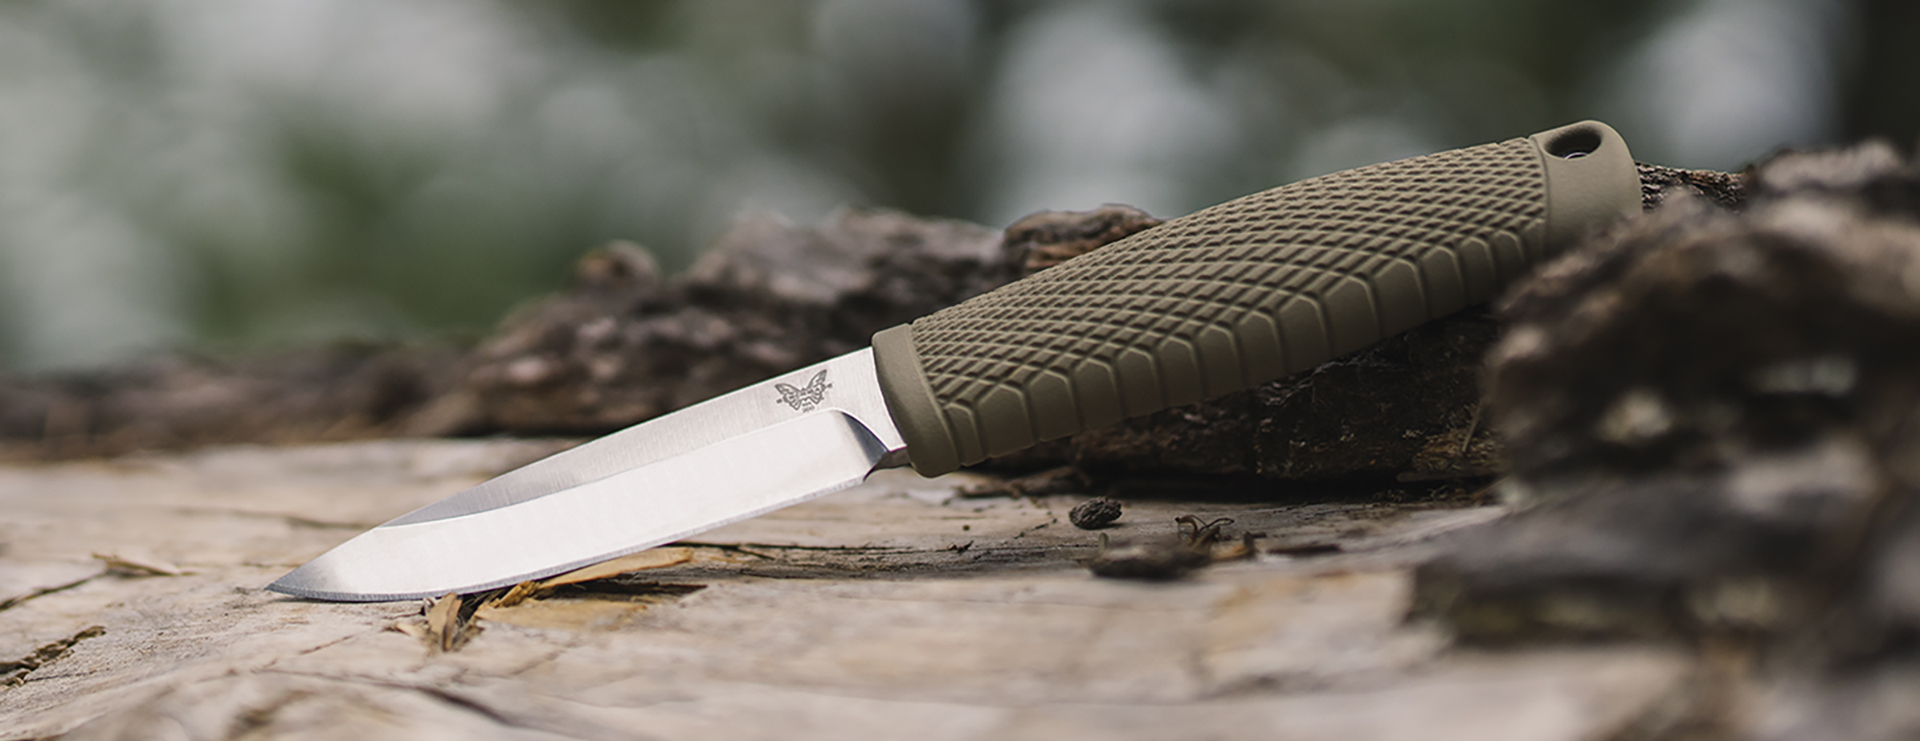knife: (251, 120, 1637, 598)
